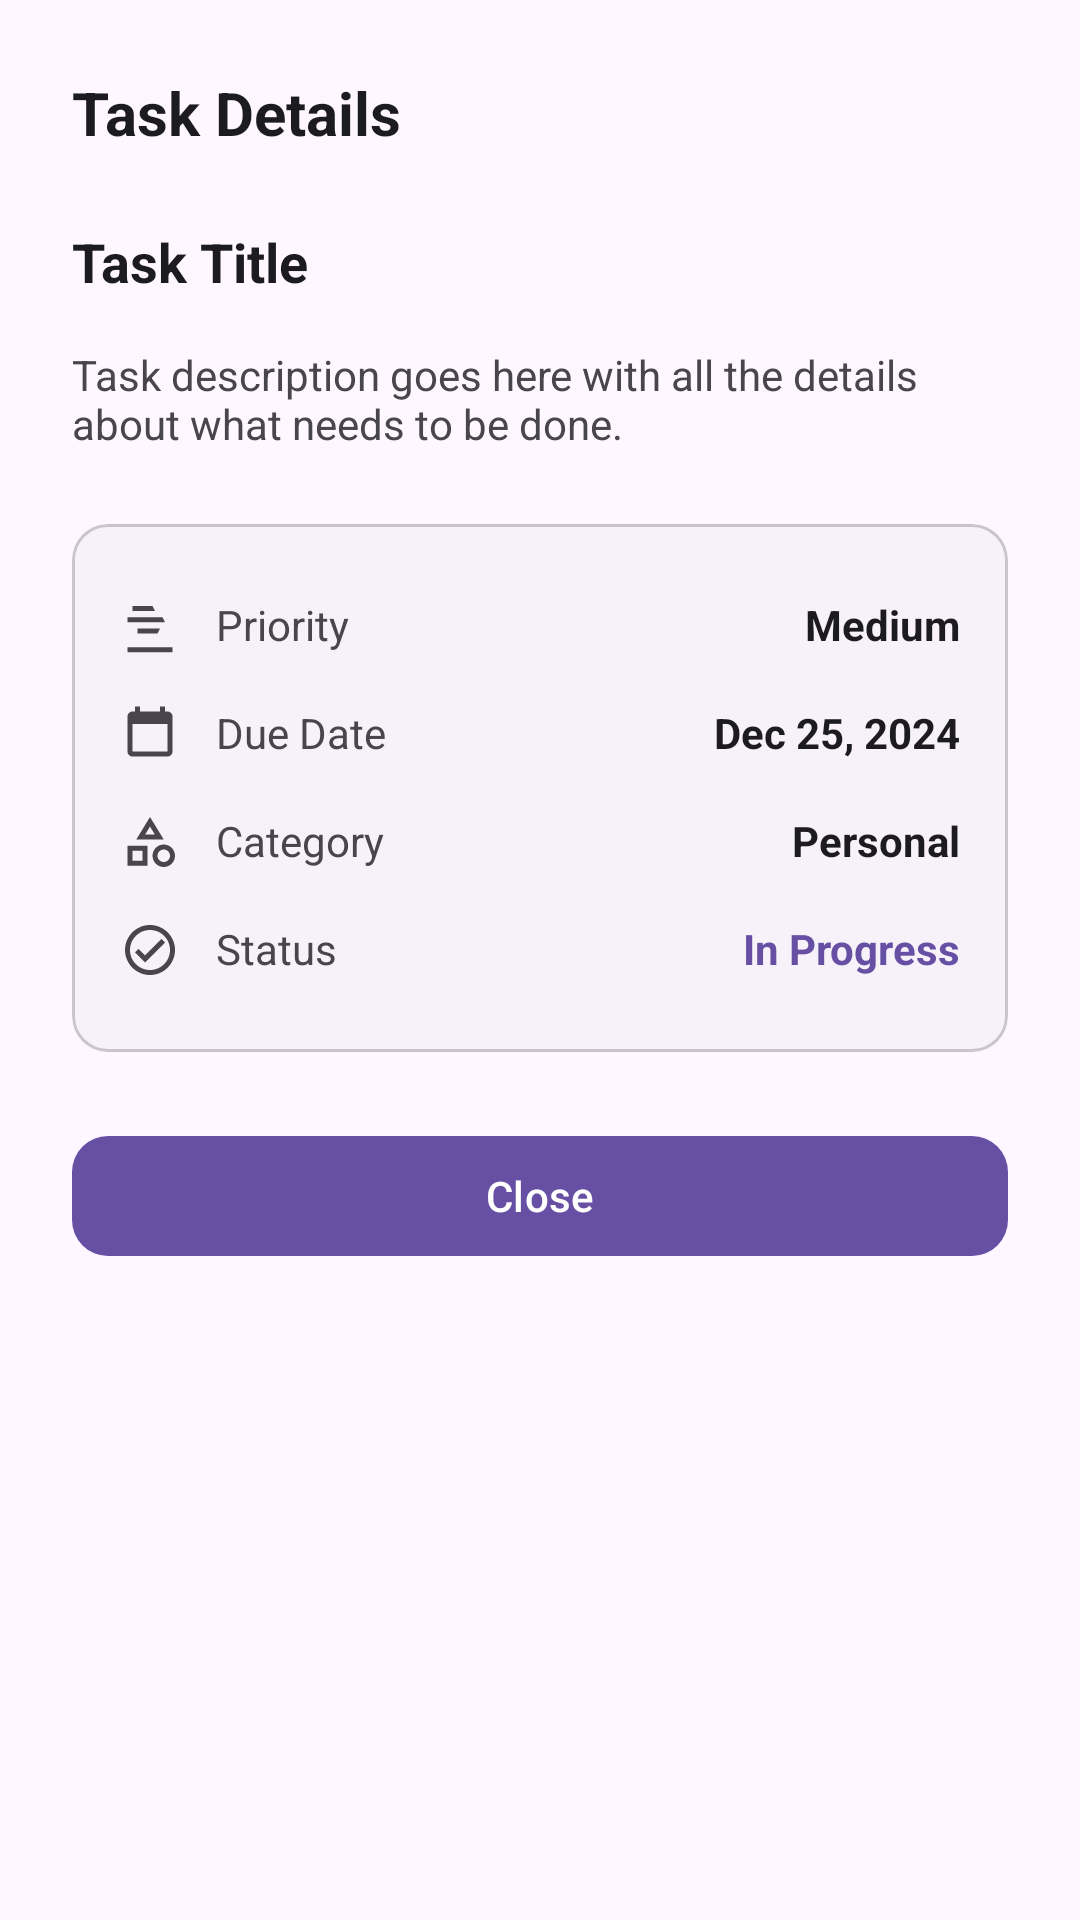

Screen size 1080x1920. Icon name, then its center in pixels as (x,y):
calendar: (150,731)
